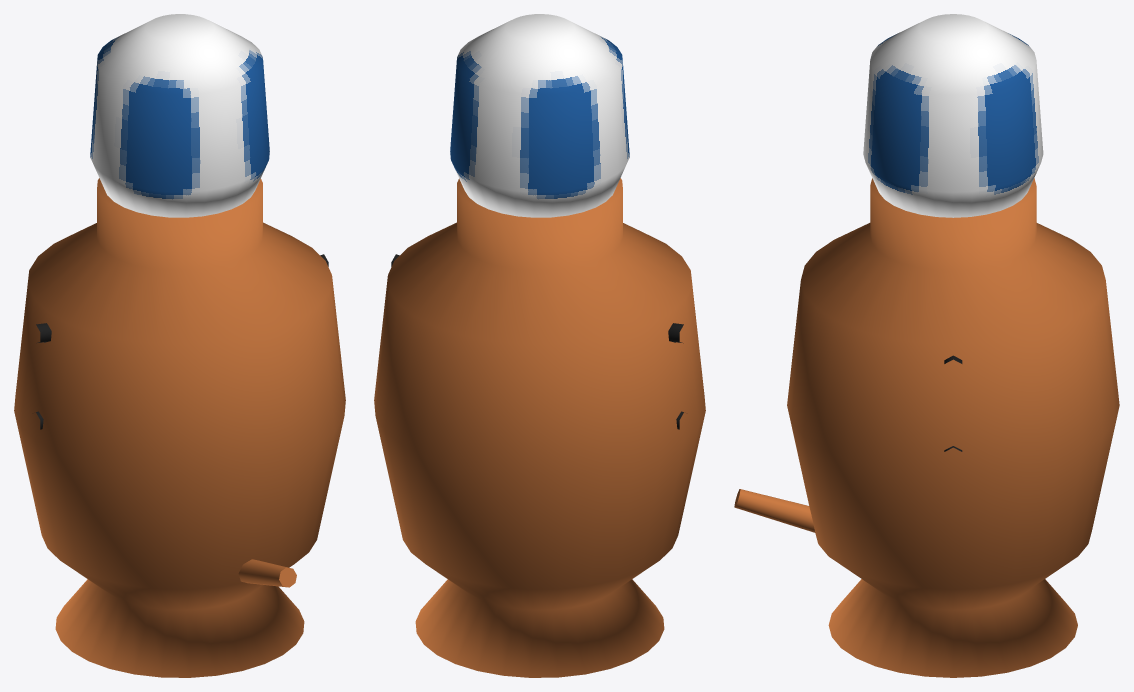
Rendered from semaver.glb.
3 renders of one model, left to right at view 1: azimuth 30°, elevation 25°; view 2: azimuth 150°, elevation 25°; view 3: azimuth 270°, elevation 25°, orthographic.
Visible parts, largest first — view 1: semaver; view 2: semaver; view 3: semaver.
Part boxes in pixels (<box>): semaver: <box>14,14,345,677</box>; semaver: <box>374,14,705,677</box>; semaver: <box>734,14,1119,677</box>.
Size of the model in its own units: 0.48 by 0.95 by 0.5561.
Materials: 3 (1 with a texture image).
